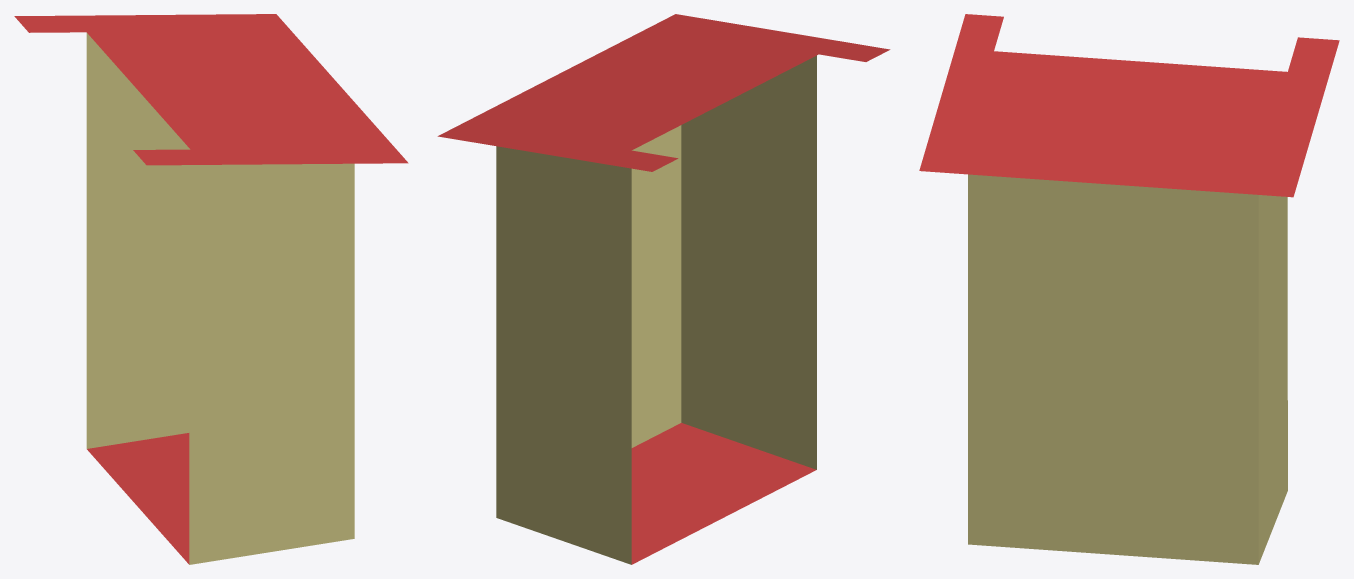
3 views of the same model, side by side, from view 1: azimuth 30°, elevation 25°; view 2: azimuth 150°, elevation 25°; view 3: azimuth 270°, elevation 25° (orthographic).
Bounding box in the file's own units: 6.02 × 7.44 × 8.36.
